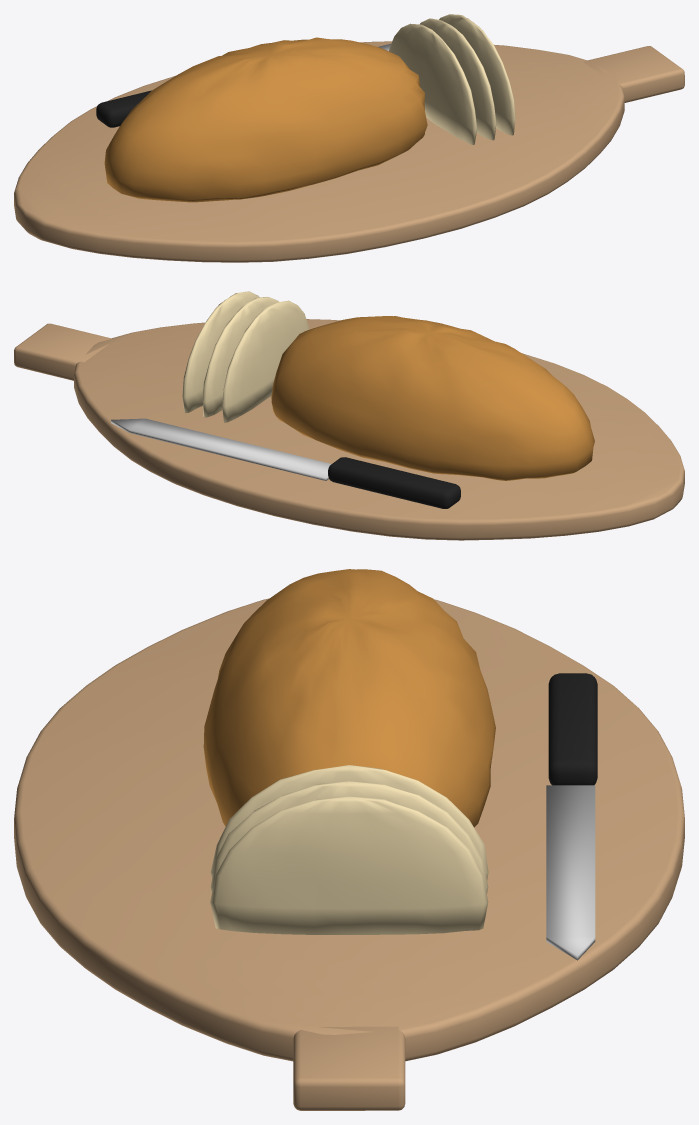
Rendered from props-cuttingboard.glb.
3 renders of one model, top to bottom at view 1: azimuth 30°, elevation 25°; view 2: azimuth 150°, elevation 25°; view 3: azimuth 270°, elevation 25°, orthographic. The views are drawn at different scales.
Parts seen in each view (by area): view 1: CuttingBoard__Board, CuttingBoard__Loaf, CuttingBoard__Slices, CuttingBoard__KnifeHandle; view 2: CuttingBoard__Board, CuttingBoard__Loaf, CuttingBoard__Slices, CuttingBoard__KnifeBlade, CuttingBoard__KnifeHandle; view 3: CuttingBoard__Board, CuttingBoard__Loaf, CuttingBoard__Slices, CuttingBoard__KnifeBlade, CuttingBoard__KnifeHandle.
Part boxes in pixels (box(x1,y1,x2,y2)): CuttingBoard__Board: box(14, 41, 684, 262); CuttingBoard__Loaf: box(104, 37, 427, 202); CuttingBoard__Slices: box(389, 14, 515, 144); CuttingBoard__KnifeHandle: box(96, 90, 151, 127); CuttingBoard__Board: box(14, 319, 684, 540); CuttingBoard__Loaf: box(271, 316, 594, 480); CuttingBoard__Slices: box(182, 291, 309, 422); CuttingBoard__KnifeBlade: box(111, 418, 331, 480); CuttingBoard__KnifeHandle: box(328, 457, 460, 508); CuttingBoard__Board: box(14, 598, 684, 1110); CuttingBoard__Loaf: box(203, 569, 495, 827); CuttingBoard__Slices: box(210, 765, 488, 934); CuttingBoard__KnifeBlade: box(546, 785, 595, 960); CuttingBoard__KnifeHandle: box(548, 673, 597, 785).
Bounding box in the file's own units: 52.44 × 9.48 × 30.01.
